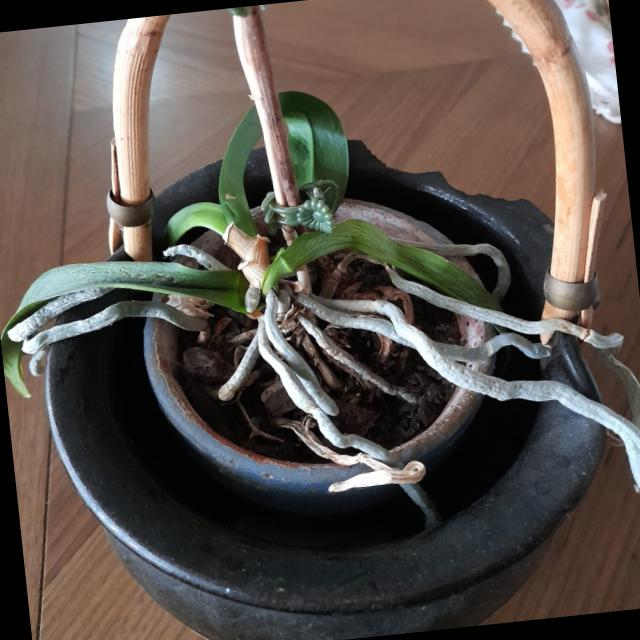leaf: (272, 219, 496, 308), (5, 260, 240, 328), (280, 90, 348, 223), (217, 105, 263, 237), (167, 202, 229, 240), (0, 335, 28, 397)
plant: (218, 329, 259, 399)
root: (296, 293, 640, 486), (255, 291, 425, 491), (396, 277, 622, 347), (22, 301, 205, 361), (9, 286, 114, 341), (218, 329, 259, 400), (163, 244, 228, 270)
stem: (219, 326, 258, 398)
